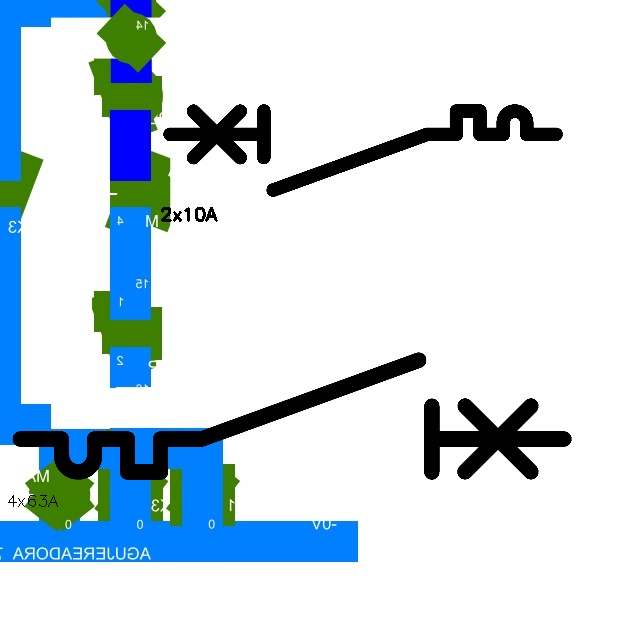interruptor_termomagnetico: (6, 346, 578, 486), (160, 101, 566, 200)
